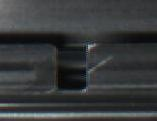oneu: (45, 38, 98, 103)
